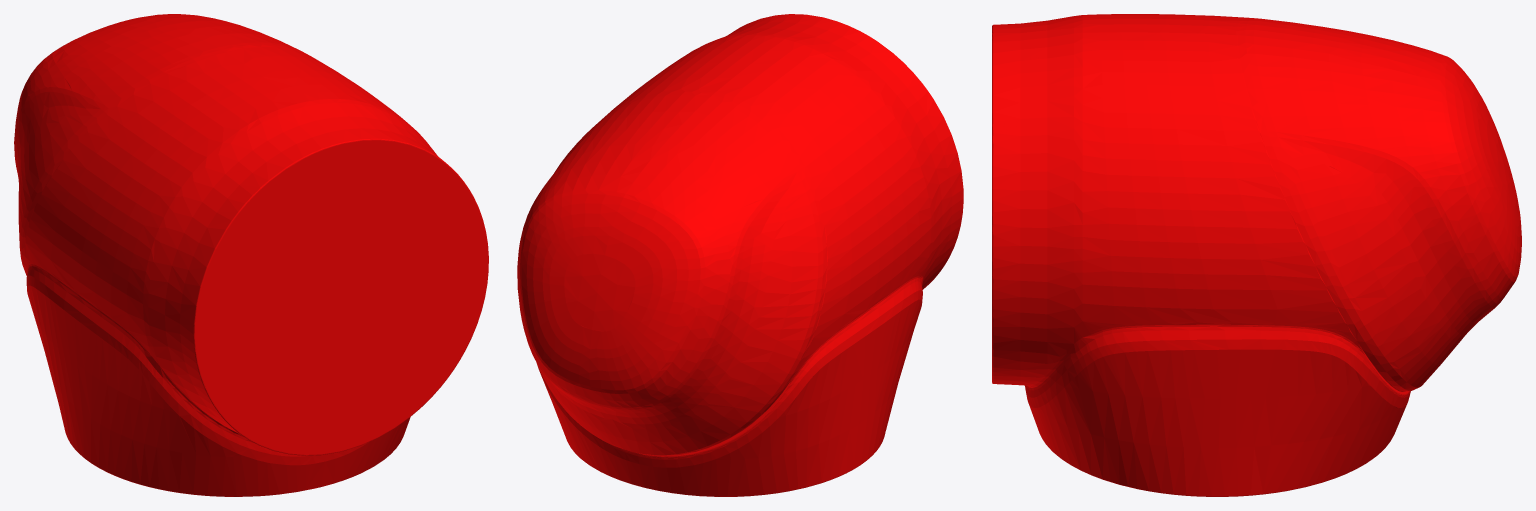
The picture shows the model from 3 angles, left to right: view 1: azimuth 30°, elevation 25°; view 2: azimuth 150°, elevation 25°; view 3: azimuth 270°, elevation 25°; orthographic projection. The views are drawn at different scales.
Parts seen in each view (by area): view 1: H2515_4_1; view 2: H2515_4_1; view 3: H2515_4_1.
Part boxes in pixels (x1,y1,x2,y2): H2515_4_1: (14, 14, 488, 496); H2515_4_1: (517, 14, 963, 496); H2515_4_1: (992, 14, 1521, 496).
Size of the model in its own units: 143 by 193 by 156.
